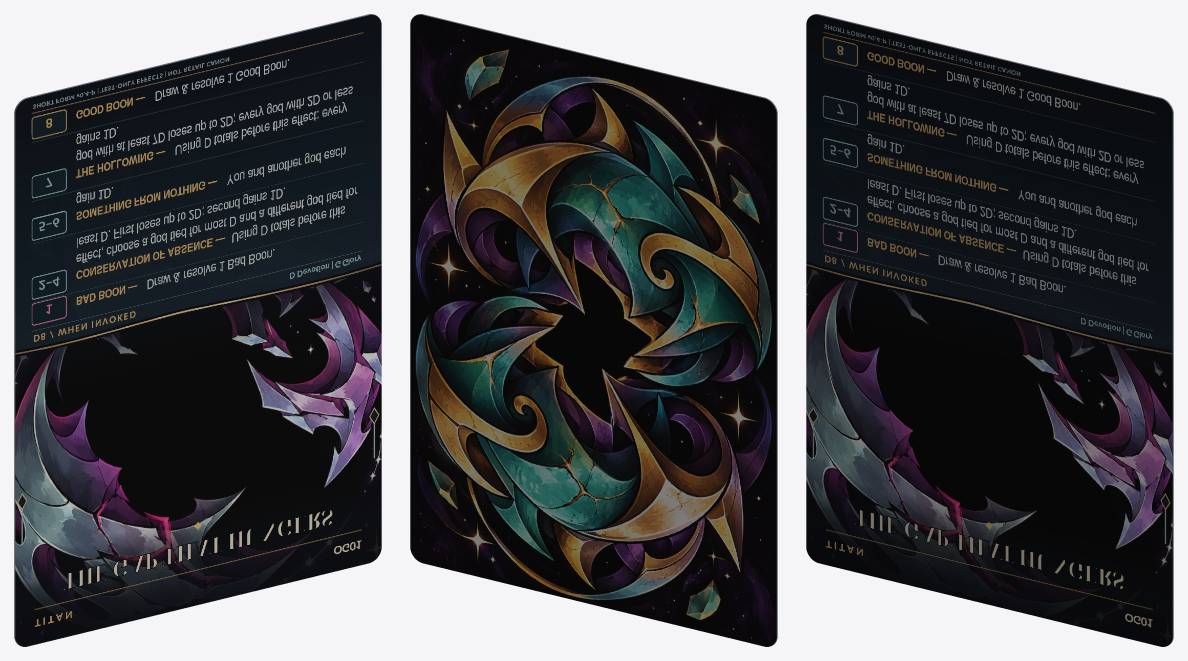
The model's file is SGLD_OG01_The_Gap_That_Hungers_3D_Card_v0.1-P_UNAPPROVED.glb.
3 views of the same model, side by side, from view 1: azimuth 30°, elevation 25°; view 2: azimuth 150°, elevation 25°; view 3: azimuth 330°, elevation 25° (orthographic).
Parts seen in each view (by area): view 1: OG01_FRONT, OG01_EDGE; view 2: OG01_BACK, OG01_EDGE; view 3: OG01_FRONT, OG01_EDGE.
Part boxes in pixels (left/top/right/bottom): OG01_FRONT: left=15, top=15, right=381, bottom=646; OG01_EDGE: left=14, top=14, right=381, bottom=646; OG01_BACK: left=410, top=15, right=776, bottom=646; OG01_EDGE: left=410, top=14, right=777, bottom=646; OG01_FRONT: left=806, top=15, right=1172, bottom=646; OG01_EDGE: left=806, top=14, right=1173, bottom=646.
Size of the model in its own units: 0.0889 by 0.127 by 0.00035.
Materials: 3 (2 with a texture image).
